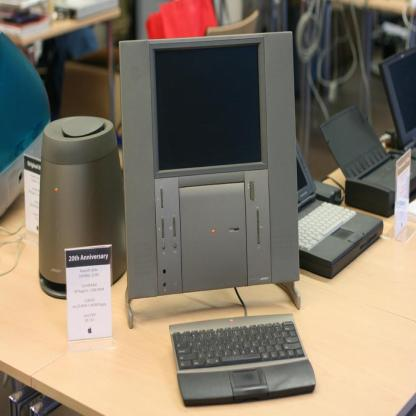board: (297, 141, 384, 279), (377, 45, 416, 160)
